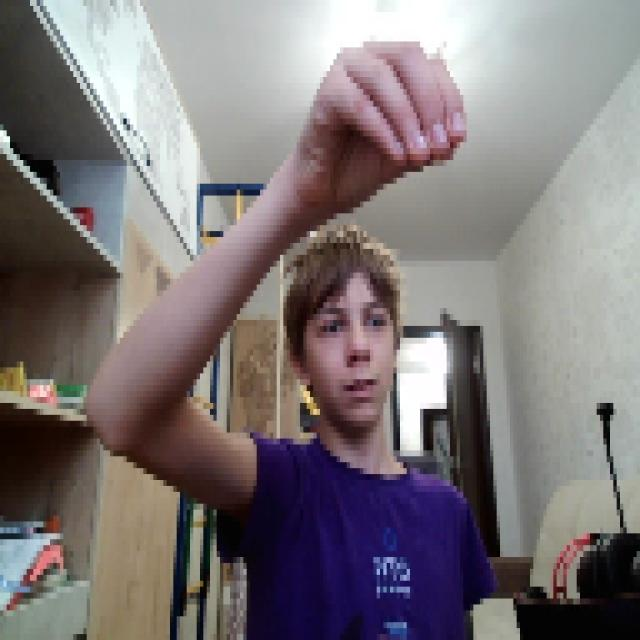left_click: (300, 29, 463, 208)
